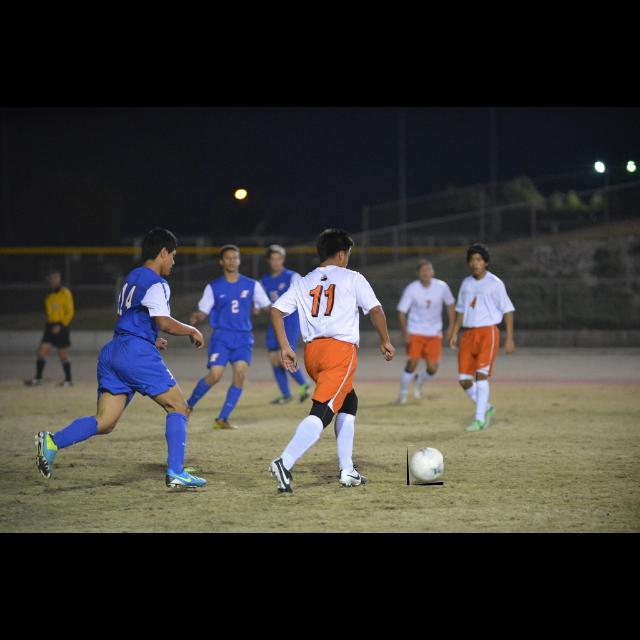Football: (407, 445, 443, 485)
